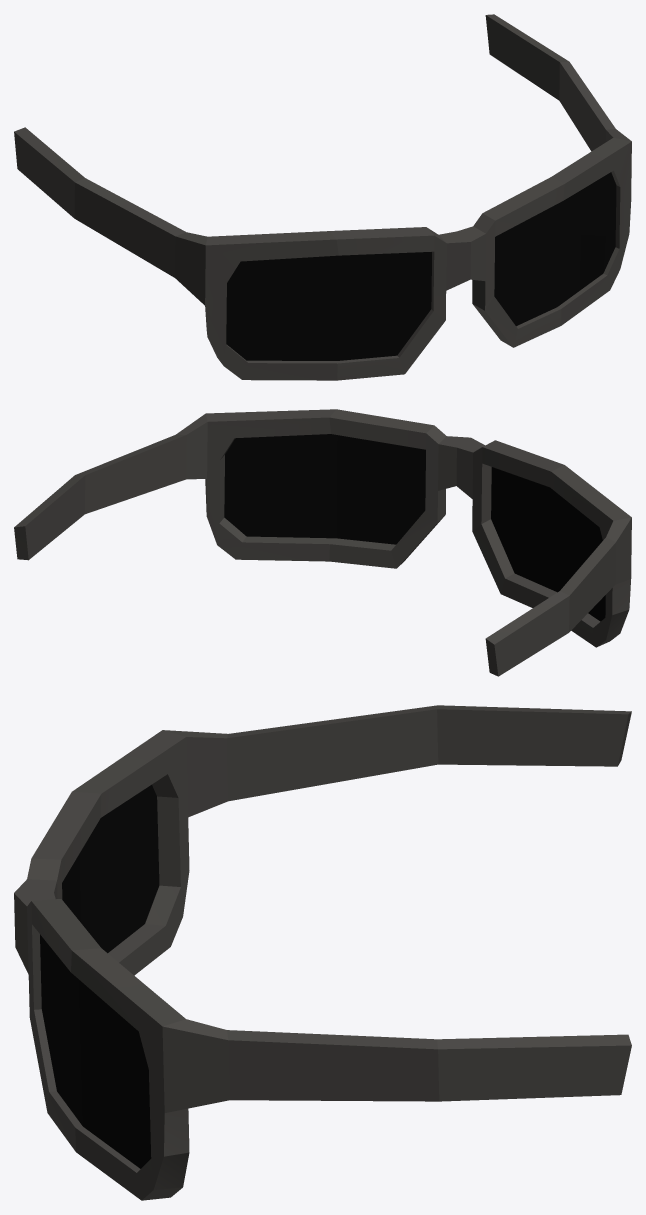
Rendered from Glasses_02_SM.FBX.
3 renders of one model, top to bottom at view 1: azimuth 30°, elevation 25°; view 2: azimuth 150°, elevation 25°; view 3: azimuth 270°, elevation 25°, orthographic. The views are drawn at different scales.
Parts seen in each view (by area): view 1: Glasses_02_SM; view 2: Glasses_02_SM; view 3: Glasses_02_SM.
Part boxes in pixels (bbox=[...]): Glasses_02_SM: bbox=[14, 14, 631, 380]; Glasses_02_SM: bbox=[14, 409, 631, 676]; Glasses_02_SM: bbox=[14, 705, 631, 1200].
Size of what is drawn, in the model's own units: 19.62 by 14.89 by 5.43.
